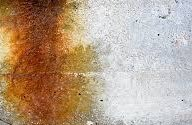Corrosion: (1, 1, 103, 125)
